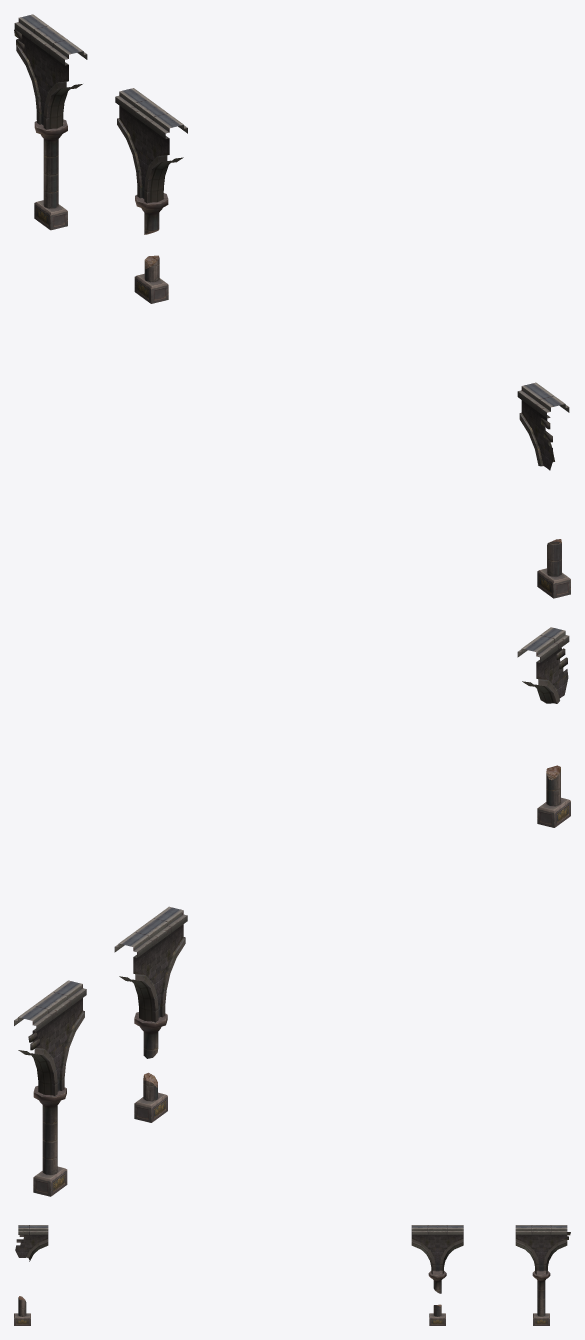
The model's file is zhuzi_cm2.FBX.
The picture shows the model from 3 angles, top to bottom: view 1: azimuth 30°, elevation 25°; view 2: azimuth 150°, elevation 25°; view 3: azimuth 270°, elevation 25°; orthographic projection. The views are drawn at different scales.
Visible parts, largest first — view 1: zhuzi_right, Object517; view 2: zhuzi_right, Object517; view 3: zhuzi_right, Object517.
Part boxes in pixels (bbox=[...]): zhuzi_right: bbox=[14, 14, 187, 303]; Object517: bbox=[517, 382, 570, 598]; zhuzi_right: bbox=[14, 906, 187, 1196]; Object517: bbox=[517, 627, 570, 827]; zhuzi_right: bbox=[411, 1225, 570, 1325]; Object517: bbox=[14, 1225, 48, 1325].
Size of the model in its own units: 174 by 1047 by 5456.
